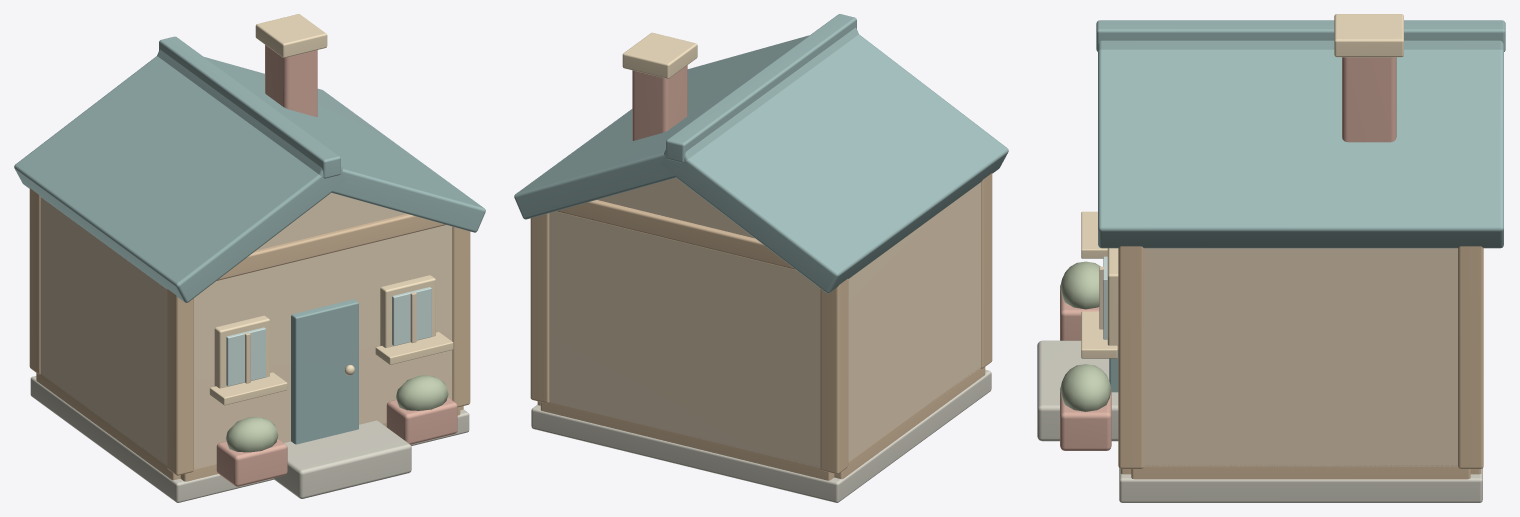
The model's file is family-home-complete.glb.
3 renders of one model, left to right at view 1: azimuth 30°, elevation 25°; view 2: azimuth 150°, elevation 25°; view 3: azimuth 270°, elevation 25°, orthographic. The views are drawn at different scales.
Parts seen in each view (by area): view 1: Padded roof plane.006, Front wall, Side panel.006, Padded roof plane.007, Door, Welcoming step, Corner post.020, Ridge cap.003, Rounded stone footing.007, Eave beam.010, Corner post.022, Gable cladding.006 (+14 smaller); view 2: Back panel.001, Padded roof plane.006, Side panel.006, Padded roof plane.007, Rounded stone footing.007, Corner post.021, Ridge cap.003, Eave beam.011, Corner post.023, Gable cladding.007, Sill beam.029, Chimney (+3 smaller); view 3: Padded roof plane.007, Side panel.007, Rounded stone footing.007, Ridge cap.003, Corner post.023, Corner post.022, Sill beam.031, Chimney, Welcoming step, Padded roof plane.006, Chimney cap, Planter.001 (+6 smaller).
Boxes of the visible parts, x1,y1,x2,y2 form: Padded roof plane.006: [14, 56, 345, 302]; Front wall: [194, 225, 452, 469]; Side panel.006: [40, 197, 167, 465]; Padded roof plane.007: [157, 49, 485, 232]; Door: [291, 299, 358, 444]; Welcoming step: [273, 420, 411, 498]; Corner post.020: [167, 289, 193, 475]; Ridge cap.003: [159, 36, 340, 178]; Rounded stone footing.007: [30, 376, 469, 502]; Eave beam.010: [217, 214, 445, 280]; Corner post.022: [452, 226, 470, 407]; Gable cladding.006: [256, 193, 406, 250]; Back panel.001: [549, 211, 820, 467]; Padded roof plane.006: [661, 34, 1008, 293]; Side panel.006: [848, 182, 980, 462]; Padded roof plane.007: [514, 27, 858, 219]; Rounded stone footing.007: [531, 369, 991, 502]; Corner post.021: [820, 279, 848, 474]; Ridge cap.003: [666, 14, 856, 162]; Eave beam.011: [556, 200, 796, 270]; Corner post.023: [530, 213, 549, 403]; Gable cladding.007: [597, 178, 754, 238]; Sill beam.029: [540, 402, 834, 480]; Chimney: [632, 65, 687, 140]; Padded roof plane.007: [1098, 49, 1503, 248]; Side panel.007: [1144, 248, 1457, 466]; Rounded stone footing.007: [1119, 468, 1482, 502]; Ridge cap.003: [1096, 20, 1505, 51]; Corner post.023: [1458, 246, 1483, 468]; Corner post.022: [1118, 246, 1143, 468]; Sill beam.031: [1131, 464, 1470, 479]; Chimney: [1342, 57, 1396, 142]; Welcoming step: [1037, 340, 1118, 441]; Padded roof plane.006: [1098, 40, 1503, 50]; Chimney cap: [1334, 14, 1403, 57]; Planter.001: [1060, 387, 1111, 450].
Size of the model in its own units: 2.91 by 3.13 by 3.09.
